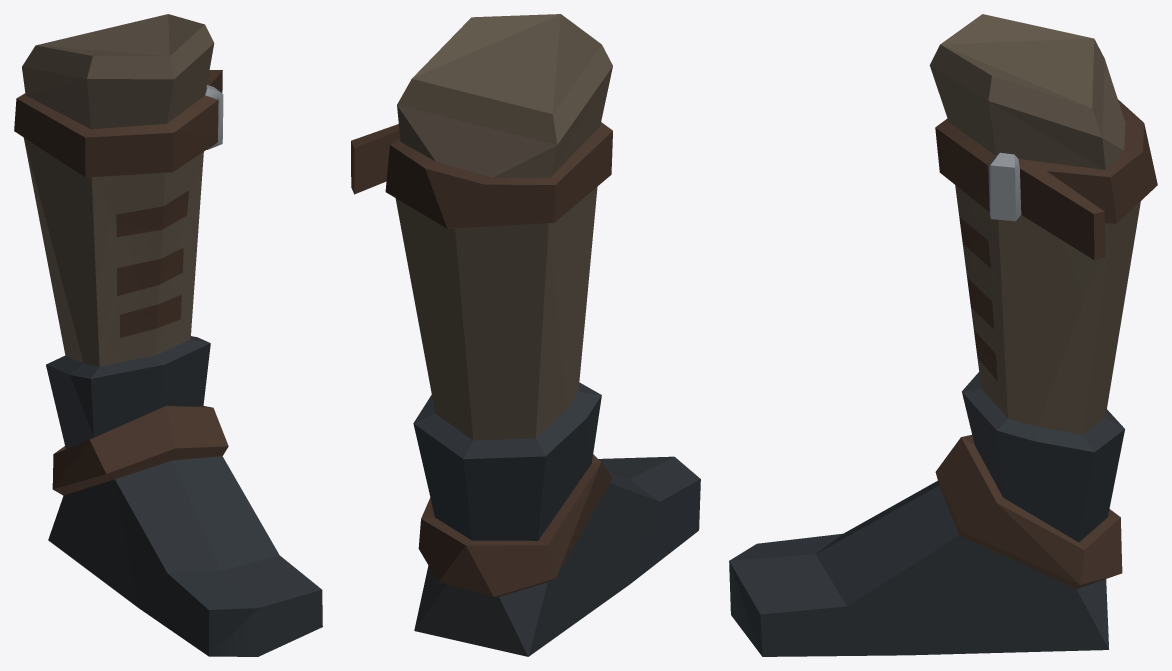
File: Chr_LegRight_Male_11_Static.fbx
3 views of the same model, side by side, from view 1: azimuth 30°, elevation 25°; view 2: azimuth 150°, elevation 25°; view 3: azimuth 270°, elevation 25° (orthographic). The views are drawn at different scales.
Visible parts, largest first — view 1: Chr_LegRight_Male_11_Static; view 2: Chr_LegRight_Male_11_Static; view 3: Chr_LegRight_Male_11_Static.
Part boxes in pixels (<box>): Chr_LegRight_Male_11_Static: <box>14,14,322,656</box>; Chr_LegRight_Male_11_Static: <box>351,14,700,656</box>; Chr_LegRight_Male_11_Static: <box>729,14,1157,656</box>.
Size of the model in its own units: 0.1587 by 0.404 by 0.2732.
